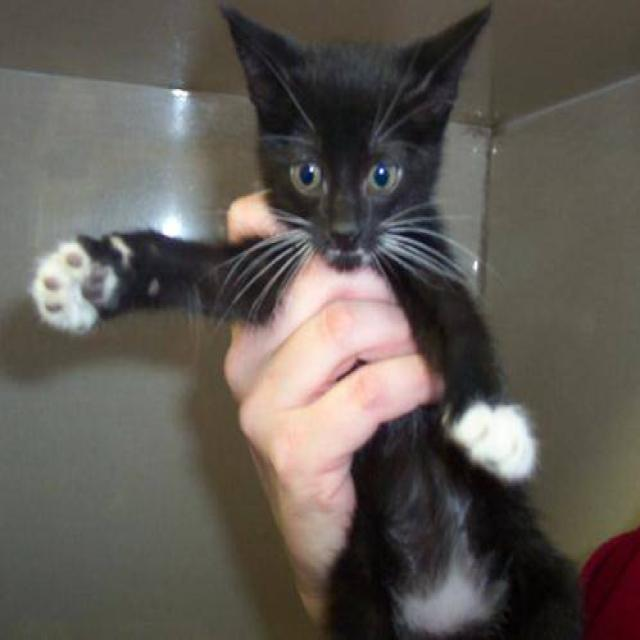cat: (29, 0, 584, 638)
